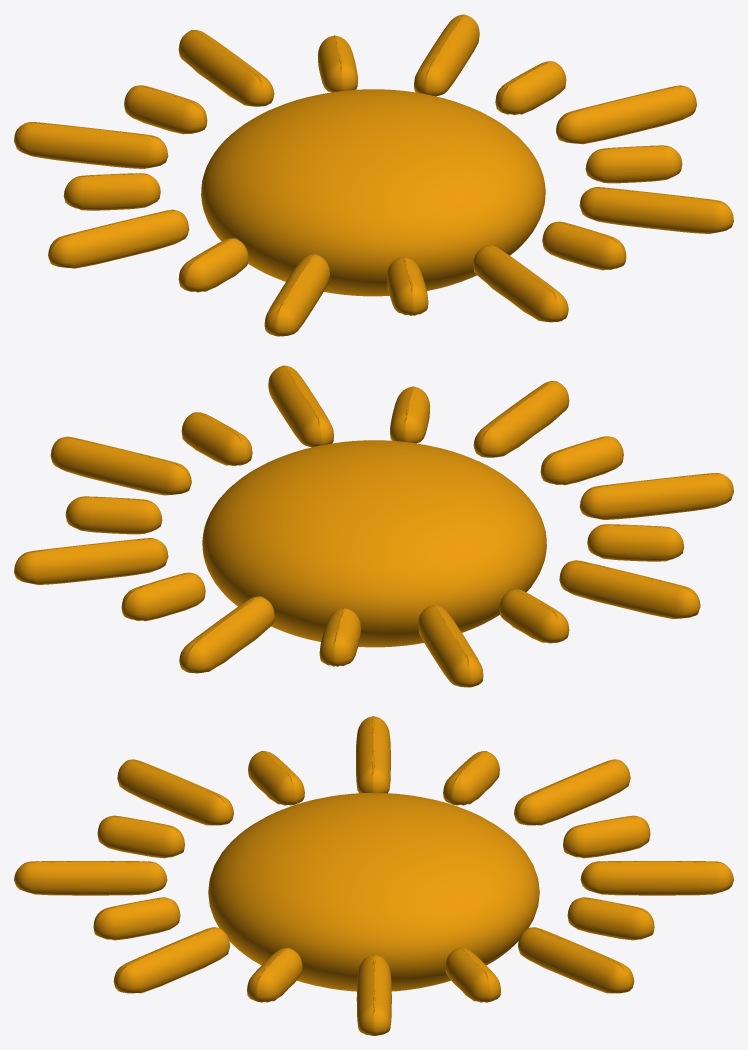
File: sun.glb
3 views of the same model, one above another, from view 1: azimuth 30°, elevation 25°; view 2: azimuth 150°, elevation 25°; view 3: azimuth 270°, elevation 25° (orthographic). The views are drawn at different scales.
Visible parts, largest first — view 1: Círculo; view 2: Círculo; view 3: Círculo.
Boxes of the visible parts, bbox=[...] form: Círculo: bbox=[14, 14, 733, 336]; Círculo: bbox=[14, 365, 733, 687]; Círculo: bbox=[14, 716, 733, 1035].
Size of the model in its own units: 2.09 by 0.4568 by 2.1.
